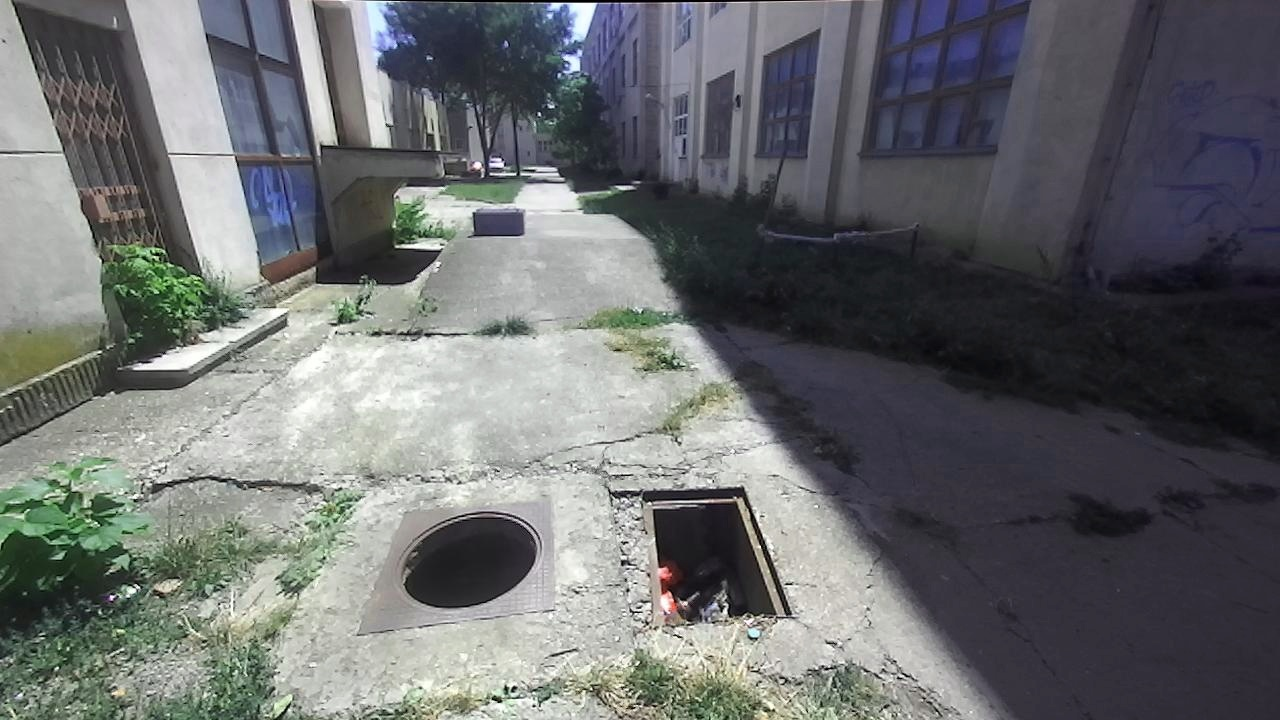drain: (612, 488, 800, 625), (397, 505, 540, 610)
